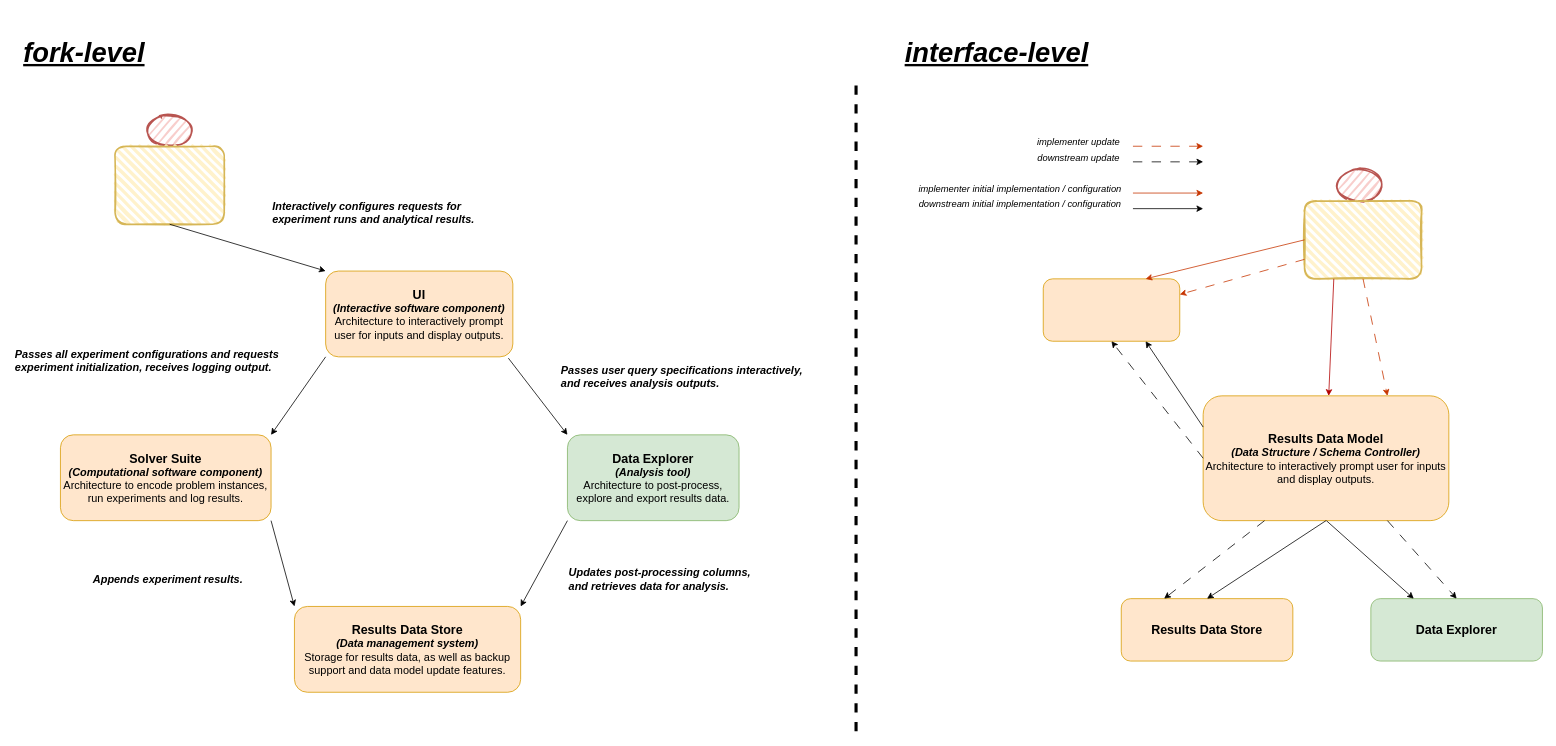
The diagram is 1556 pixels wide and 746 high, and some of its shapes have lost their labels. Each missing label, with the box of its shape:
Implementer (System Customizer): (1303, 200, 1422, 279)
Researcher (End User): (114, 145, 225, 225)
Solver Suite: (1042, 278, 1180, 341)
